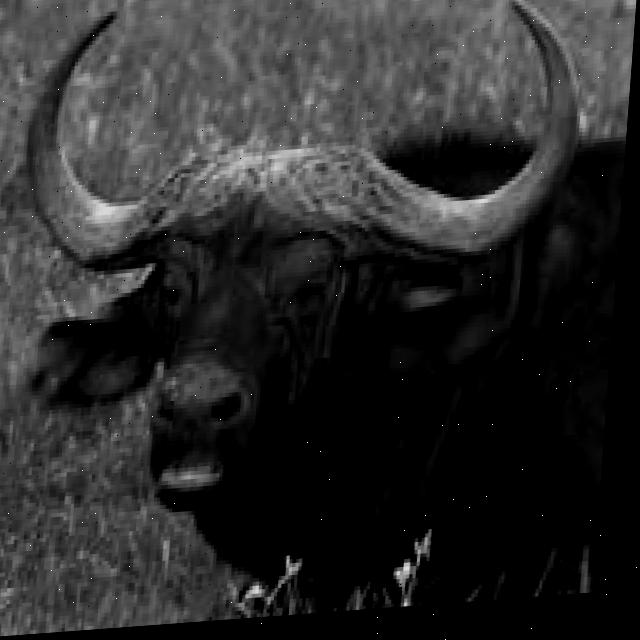Buffalo: (0, 0, 635, 637)
